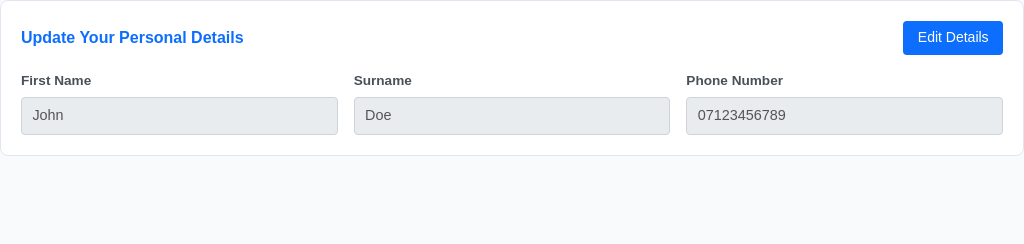
Test: CustomerProfile Component › displays error message when profile update fails
Expected: the field showing "John" is shown, [21,97,338,135]
Step 1. Click the button "Edit Details" → [953, 38], box [903,21,1003,55]
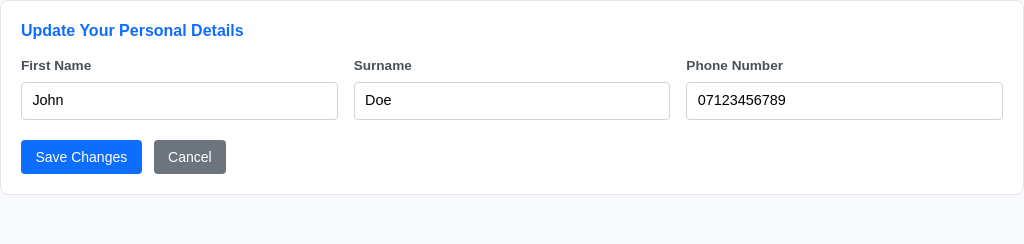
Step 2. Click the button "Save Changes" → [81, 157], box [21,140,142,174]
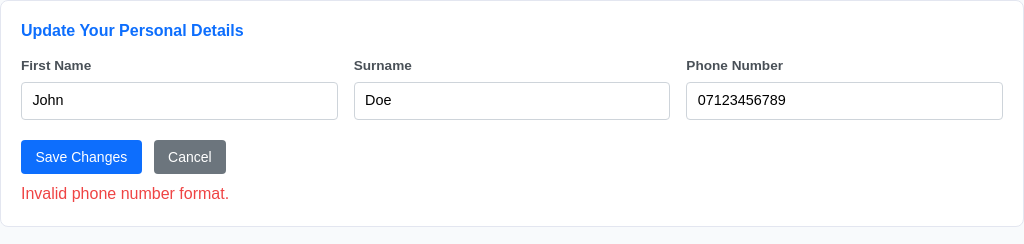
Result: the text "Invalid phone number format." is shown at [21,185,229,202]
